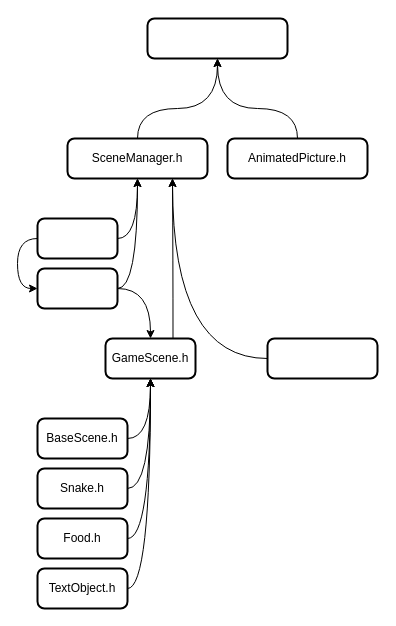
This 396x626 diagram has some shape labels left out. The shapes that lost their labels are listed below. From the top down, each one's centre as x and y in pixels, then its label:
At point (217, 38): "SFMLsnake.cpp".
At point (77, 238): "Logger.hpp".
At point (77, 288): "Support.h".
At point (322, 358): "GameOverScene.h".
